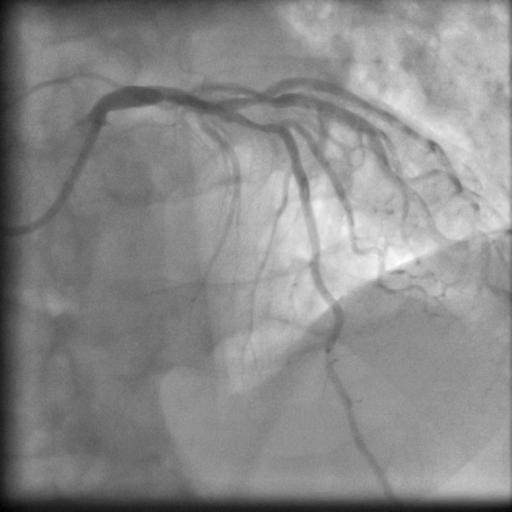Stenosis: (228, 109, 282, 133)
